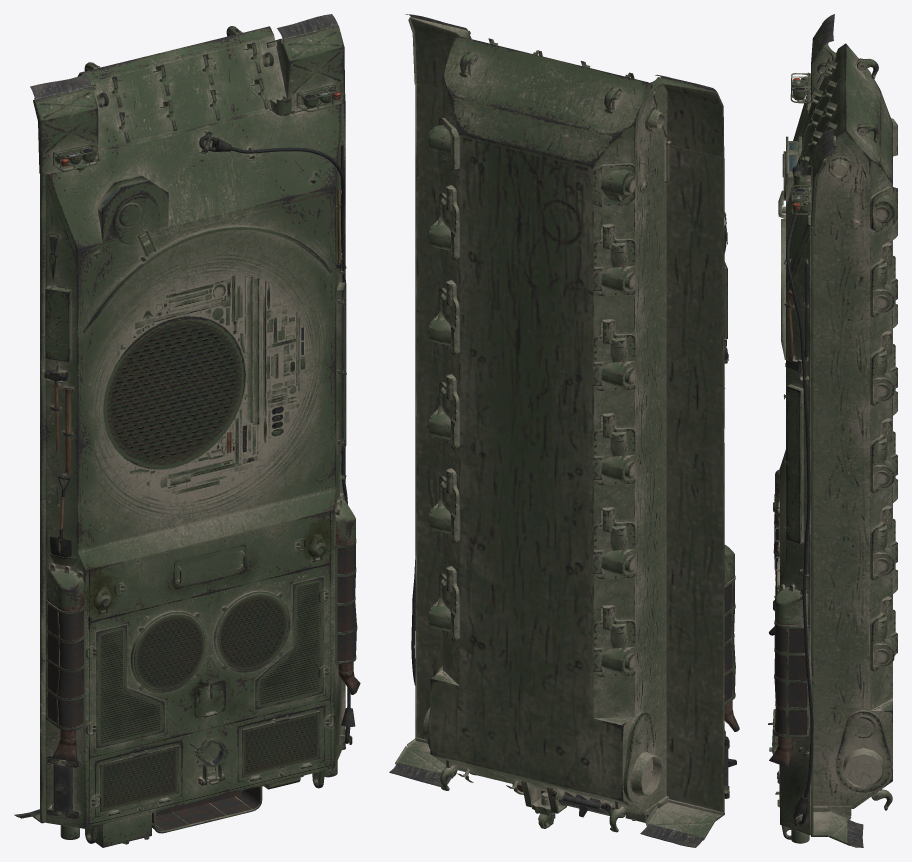
Rendered from Hull.glb.
3 renders of one model, left to right at view 1: azimuth 30°, elevation 25°; view 2: azimuth 150°, elevation 25°; view 3: azimuth 270°, elevation 25°, orthographic. The views are drawn at different scales.
Parts seen in each view (by area): view 1: set_0_group_0; view 2: set_0_group_0; view 3: set_0_group_0.
Part boxes in pixels (box(x1,y1,x2,y2)): set_0_group_0: box(14, 14, 360, 847); set_0_group_0: box(389, 14, 739, 847); set_0_group_0: box(768, 14, 897, 847).
Size of the model in its own units: 3.5 by 8.18 by 1.35.
1 material, 1 textured.
